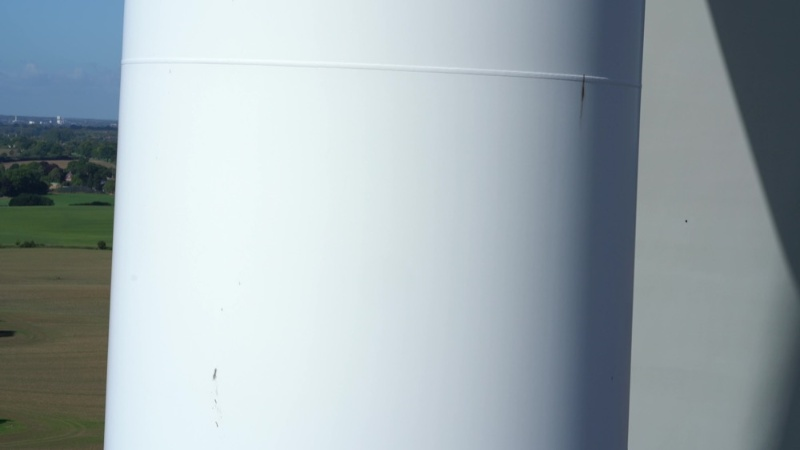weldseam: (120, 39, 643, 90)
